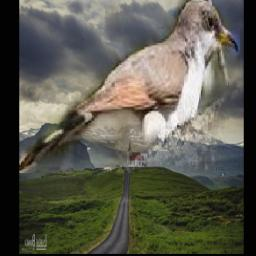Cuckoo: (19, 0, 240, 174)
